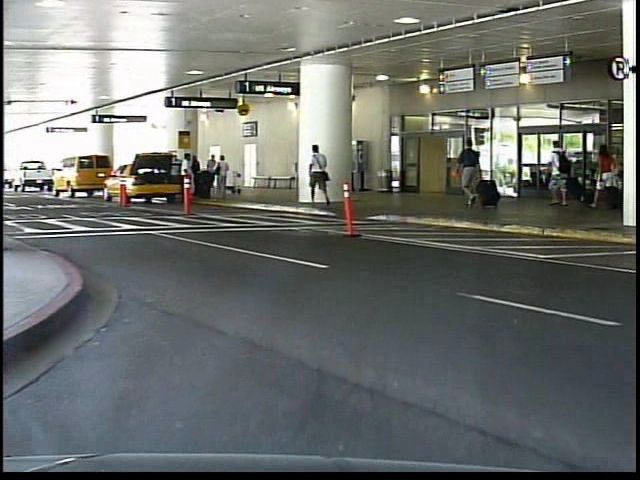person: (543, 138, 580, 218), (594, 133, 623, 219), (460, 138, 490, 213), (306, 141, 338, 211)
